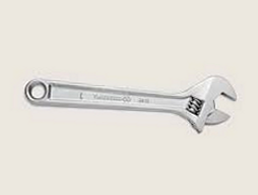wrench: (10, 50, 242, 144)
